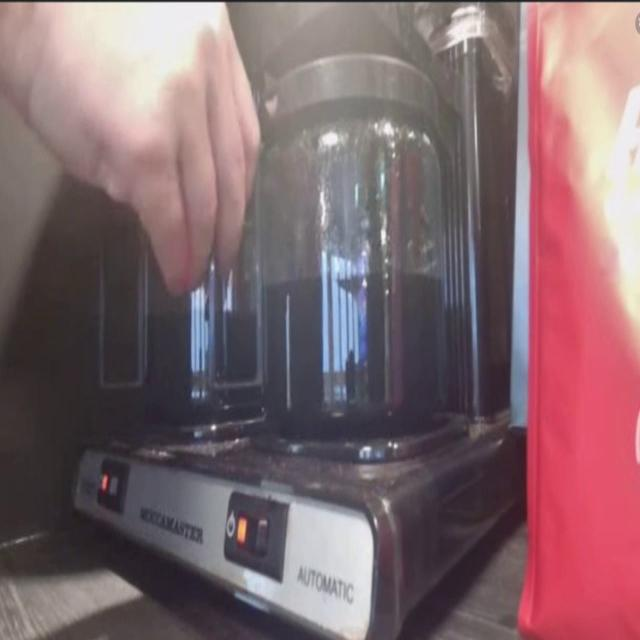coffee: (262, 153, 439, 424), (132, 304, 264, 417)
